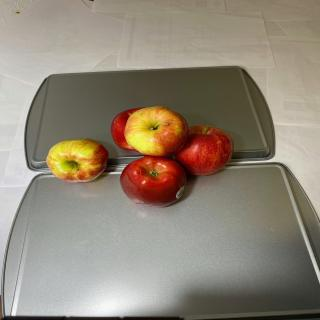Apple: (119, 155, 187, 208), (124, 106, 188, 156), (172, 125, 234, 176), (46, 138, 108, 183), (111, 107, 146, 155)
